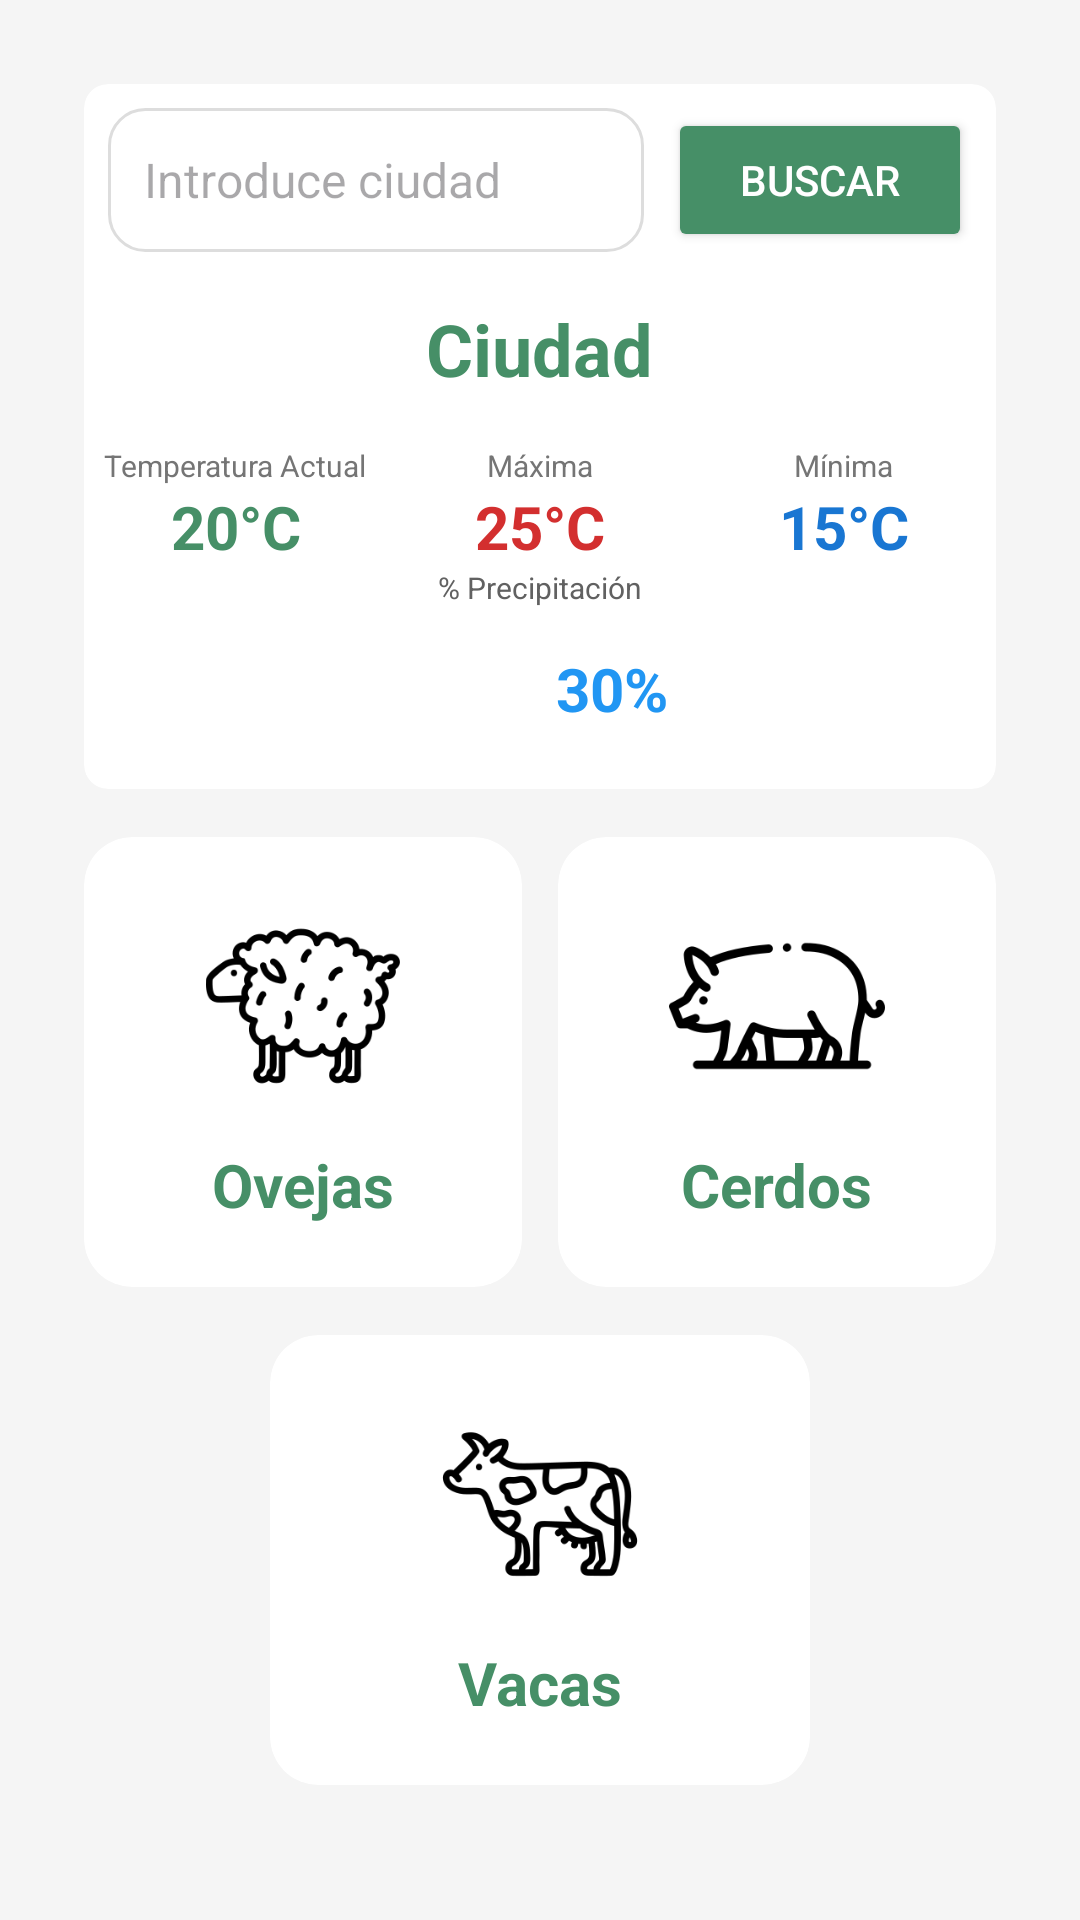

Icons on this 1080 x 1920 Android screen, each with its box as (x1, y1, x2, y2):
Imagen de oveja: (206, 928, 400, 1084)
Imagen de vaca: (443, 1432, 638, 1576)
